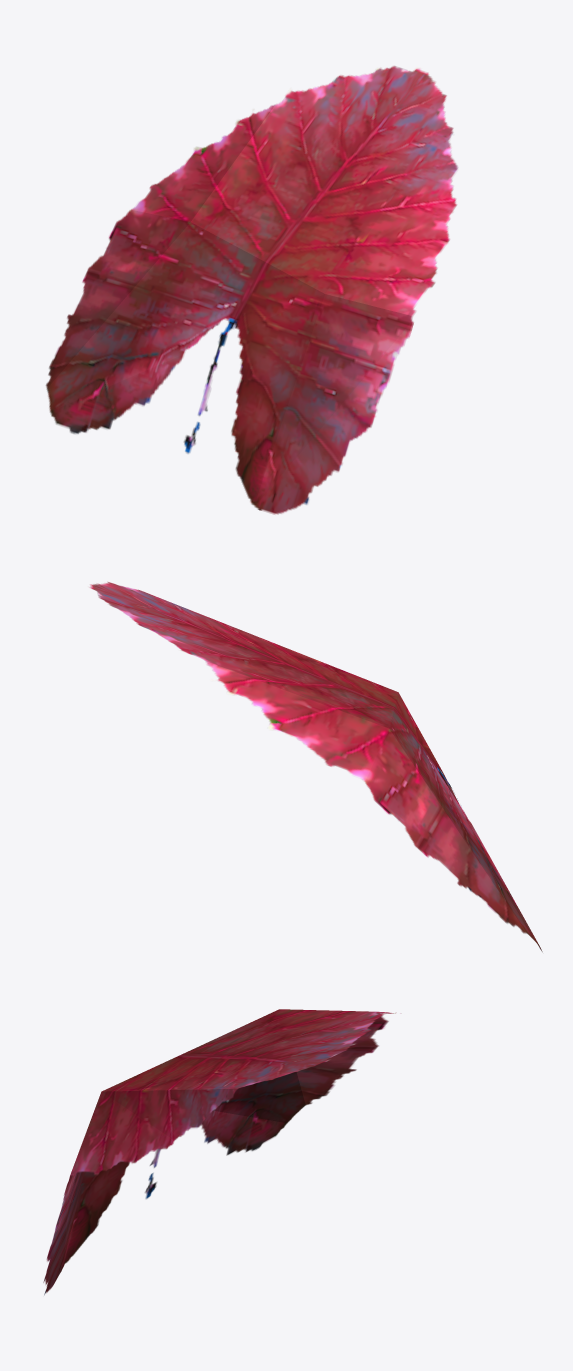
File: AlienPlant_1_EELeaf_3.gltf
3 renders of one model, top to bottom at view 1: azimuth 30°, elevation 25°; view 2: azimuth 150°, elevation 25°; view 3: azimuth 270°, elevation 25°, orthographic. The views are drawn at different scales.
Parts seen in each view (by area): view 1: AlienPlant_1_EELeaf_3; view 2: AlienPlant_1_EELeaf_3; view 3: AlienPlant_1_EELeaf_3.
Boxes of the visible parts, box(x1,y1,x2,y2) form: AlienPlant_1_EELeaf_3: box(46, 66, 457, 514); AlienPlant_1_EELeaf_3: box(88, 582, 542, 951); AlienPlant_1_EELeaf_3: box(43, 1009, 401, 1294).
Bounding box in the file's own units: 3.04 × 1.95 × 2.23.
Materials: 1 (1 with a texture image).
